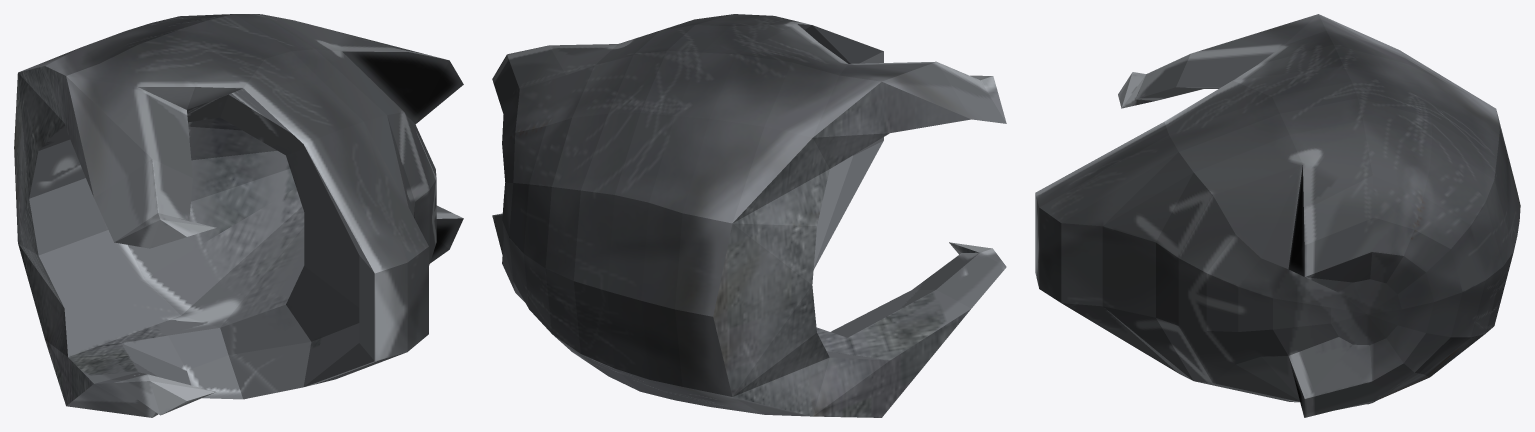
File: LVKHelmet.fbx
The picture shows the model from 3 angles, left to right: view 1: azimuth 30°, elevation 25°; view 2: azimuth 150°, elevation 25°; view 3: azimuth 270°, elevation 25°; orthographic projection. The views are drawn at different scales.
Parts seen in each view (by area): view 1: Sphere; view 2: Sphere; view 3: Sphere.
Part boxes in pixels (x1,y1,x2,y2): Sphere: (14, 14, 463, 417); Sphere: (492, 14, 1006, 417); Sphere: (1035, 14, 1520, 417).
Bounding box in the file's own units: 0.187 × 0.1426 × 0.2016.
